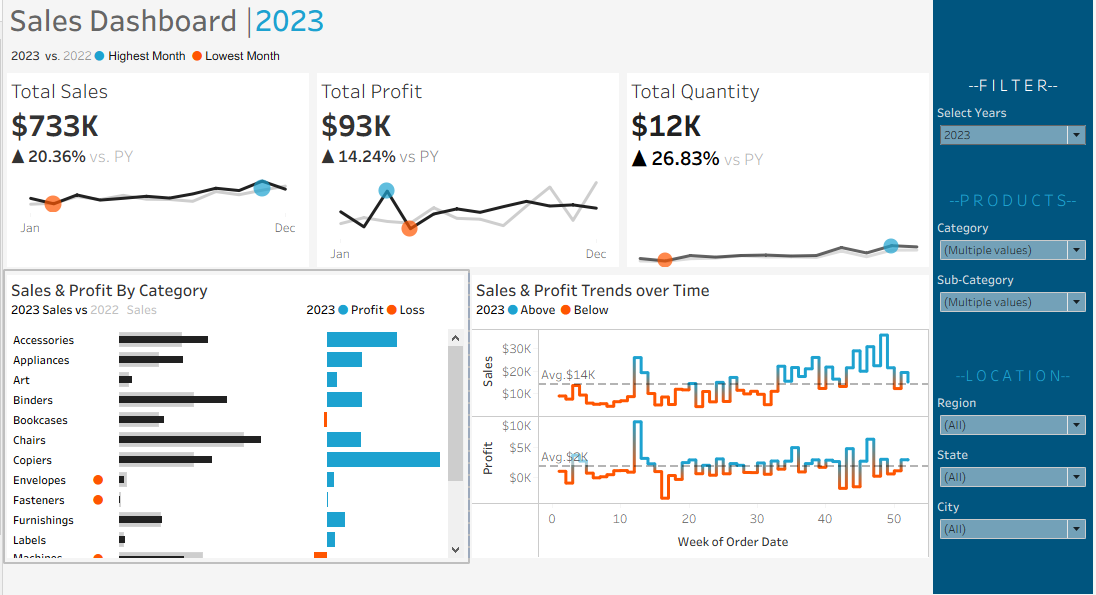

The dashboard page shown, as its layout file describes it:
{"tool":"tableau","page":{"name":"Sales Dashboard","canvas":[1090,599],"ordinal":0},"visuals":[{"type":"text","box":[0,0,930,48]},{"type":"blank","box":[930,0,160,74]},{"type":"worksheet","title":"Legends (2)","mark":"Automatic","box":[0,48,930,26]},{"type":"worksheet","title":"KPI Sales","mark":"Automatic","rows":["Calculation_0599846393040900"],"cols":["Order Date"],"box":[0,74,310,202]},{"type":"worksheet","title":"KPI Profit","mark":"Automatic","rows":["Calculation_0599846423785486"],"cols":["Order Date"],"box":[310,74,310,202]},{"type":"worksheet","title":"KPI Quantity","mark":"Line","rows":["Min/Max Sales (copy)_0479175088201731"],"cols":["Order Date"],"box":[620,74,310,202]},{"type":"text","box":[930,74,160,31]},{"type":"parameter","param":"[Parameters].[Parameter 1]","box":[930,105,160,56]},{"type":"blank","box":[930,161,160,32]},{"type":"text","box":[930,193,160,31]},{"type":"filter","title":"KPI Sales","param":"[federated.06wpejm0pv5bhg15xh7ib0uqmeeg].[none:Category:nk]","box":[930,224,160,56]},{"type":"worksheet","title":"Sub Category Comparison","mark":"Bar","rows":["Sub-Category","Calculation_0479175103483913"],"cols":["CY Sales (copy)_0599846376734721","Calculation_0599846375477248","Calculation_0599846419177483"],"box":[0,276,465,291]},{"type":"worksheet","title":"Weekly Trends","mark":"Automatic","rows":["Calculation_0599846375477248","Calculation_0599846419177483"],"cols":["Order Date"],"box":[465,276,465,291]},{"type":"filter","title":"KPI Sales","param":"[federated.06wpejm0pv5bhg15xh7ib0uqmeeg].[none:Sub-Category:nk]","box":[930,280,160,56]},{"type":"blank","box":[930,336,160,42]},{"type":"text","box":[930,378,160,30]},{"type":"filter","title":"KPI Sales","param":"[federated.06wpejm0pv5bhg15xh7ib0uqmeeg].[none:Region:nk]","box":[930,408,160,56]},{"type":"filter","title":"KPI Sales","param":"[federated.06wpejm0pv5bhg15xh7ib0uqmeeg].[none:State:nk]","box":[930,464,160,56]},{"type":"filter","title":"KPI Sales","param":"[federated.06wpejm0pv5bhg15xh7ib0uqmeeg].[none:City:nk]","box":[930,520,160,56]}]}

Visuals, with their boxes in screenshot pixels (x1, y1, x2, y2), scaled from the page's 1090x599 canvas onto the 1096x595 screenshot:
text: (left=0, top=0, right=935, bottom=48)
blank: (left=935, top=0, right=1095, bottom=74)
"Legends (2)" worksheet: (left=0, top=48, right=935, bottom=74)
"KPI Sales" worksheet: (left=0, top=74, right=312, bottom=274)
"KPI Profit" worksheet: (left=312, top=74, right=623, bottom=274)
"KPI Quantity" worksheet (Line marks): (left=623, top=74, right=935, bottom=274)
text: (left=935, top=74, right=1095, bottom=104)
parameter: (left=935, top=104, right=1095, bottom=160)
blank: (left=935, top=160, right=1095, bottom=192)
text: (left=935, top=192, right=1095, bottom=223)
"KPI Sales" filter: (left=935, top=223, right=1095, bottom=278)
"Sub Category Comparison" worksheet (Bar marks): (left=0, top=274, right=468, bottom=563)
"Weekly Trends" worksheet: (left=468, top=274, right=935, bottom=563)
"KPI Sales" filter: (left=935, top=278, right=1095, bottom=334)
blank: (left=935, top=334, right=1095, bottom=375)
text: (left=935, top=375, right=1095, bottom=405)
"KPI Sales" filter: (left=935, top=405, right=1095, bottom=461)
"KPI Sales" filter: (left=935, top=461, right=1095, bottom=517)
"KPI Sales" filter: (left=935, top=517, right=1095, bottom=572)
